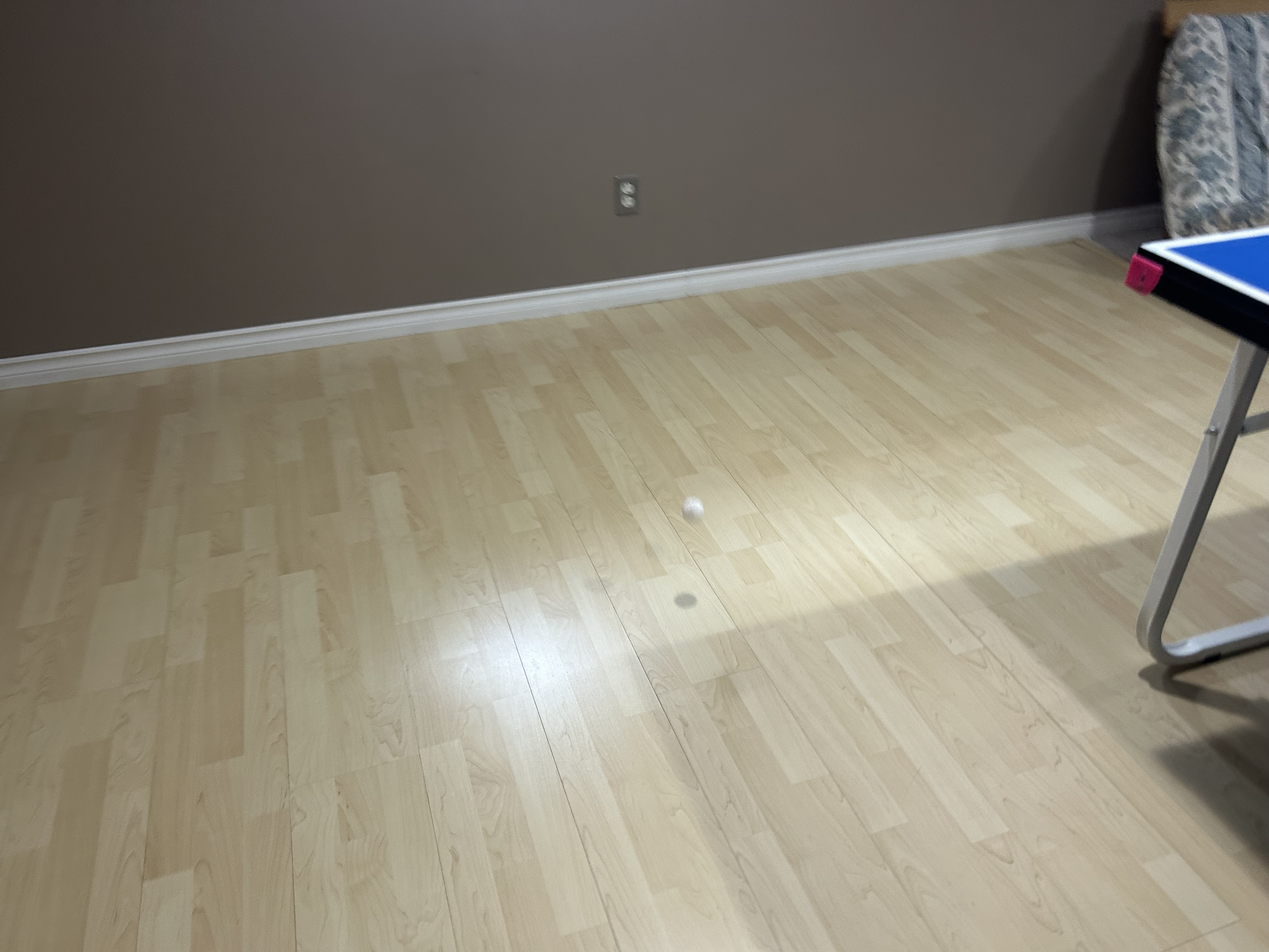Ball: (673, 495, 710, 522)
